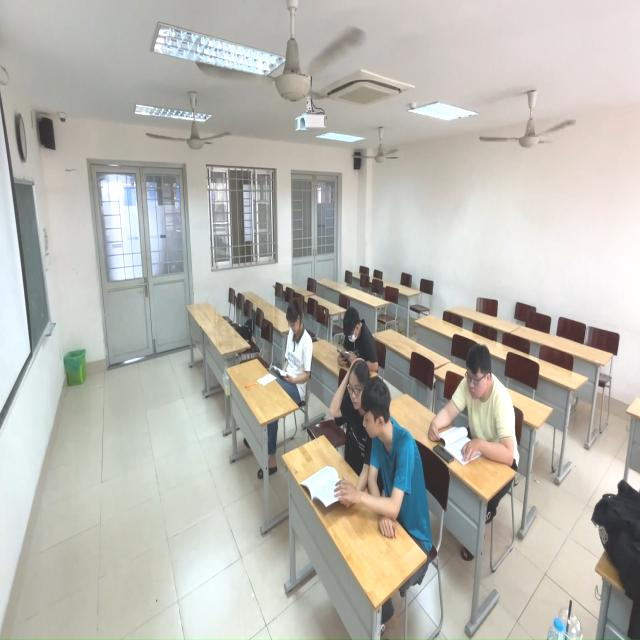read: (359, 370, 427, 554), (432, 342, 524, 473), (319, 355, 375, 489), (259, 300, 316, 407), (336, 306, 378, 368)
